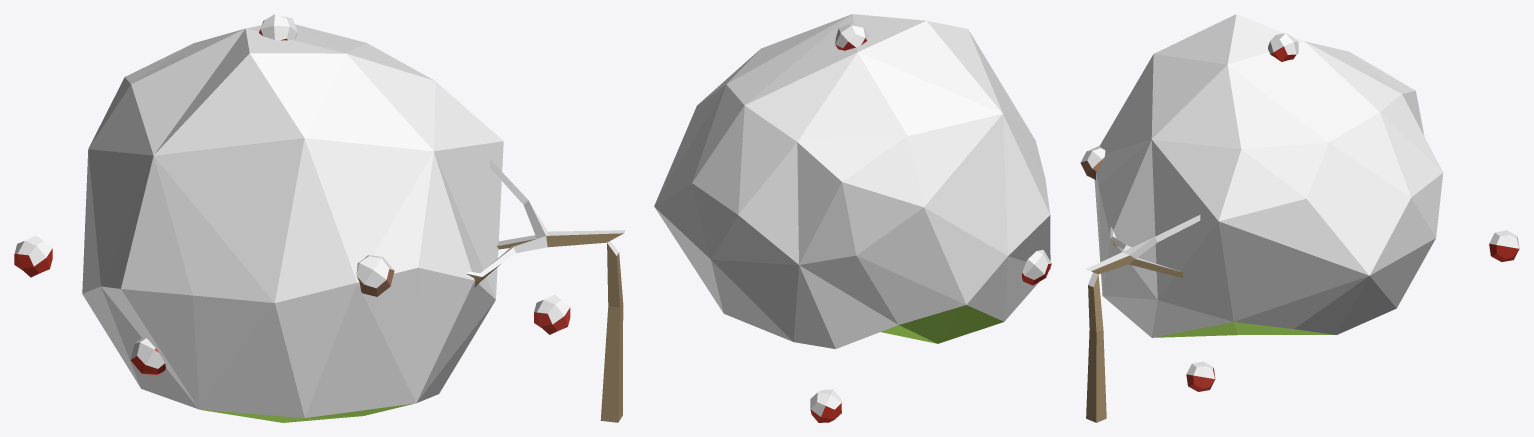
File: Apple_Tree_Apples_crk_s_Snow_01.fbx
3 renders of one model, left to right at view 1: azimuth 30°, elevation 25°; view 2: azimuth 150°, elevation 25°; view 3: azimuth 270°, elevation 25°, orthographic. The views are drawn at different scales.
Visible parts, largest first — view 1: Apple_Tree_Apples_crk_s_Snow_01; view 2: Apple_Tree_Apples_crk_s_Snow_01; view 3: Apple_Tree_Apples_crk_s_Snow_01.
Part boxes in pixels (x1=…): Apple_Tree_Apples_crk_s_Snow_01: x1=14, y1=14, x2=625, y2=422; Apple_Tree_Apples_crk_s_Snow_01: x1=654, y1=14, x2=1051, y2=422; Apple_Tree_Apples_crk_s_Snow_01: x1=1080, y1=14, x2=1519, y2=422.
Bounding box in the file's own units: 233 × 192 × 255.
